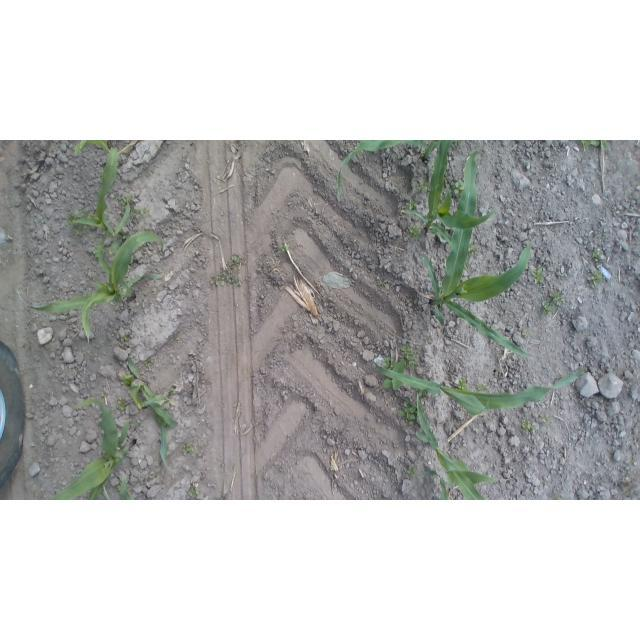Maize: (413, 148, 540, 364), (16, 231, 165, 339), (374, 365, 593, 420), (402, 141, 503, 255), (409, 393, 500, 500), (46, 399, 134, 500), (71, 143, 131, 261), (336, 141, 439, 199), (127, 366, 183, 470)
Weeds: (207, 253, 245, 290), (540, 289, 565, 317), (119, 197, 149, 219), (398, 402, 418, 423), (400, 345, 417, 369), (575, 141, 611, 152), (115, 396, 131, 416), (588, 268, 604, 288), (381, 379, 403, 393), (531, 266, 546, 285), (535, 414, 553, 428), (521, 420, 539, 434), (407, 224, 425, 238), (454, 379, 473, 392), (185, 485, 201, 500), (450, 178, 465, 194), (66, 210, 89, 220), (183, 442, 198, 457), (407, 463, 418, 482), (71, 224, 87, 237), (592, 247, 605, 263), (623, 483, 637, 497), (377, 280, 391, 293), (417, 179, 430, 193), (142, 357, 157, 369), (277, 243, 289, 258), (469, 245, 481, 260), (379, 355, 395, 366), (121, 334, 134, 346), (404, 198, 416, 211), (163, 388, 176, 399), (474, 383, 488, 393), (92, 245, 101, 260), (393, 360, 405, 371), (520, 331, 533, 339)
